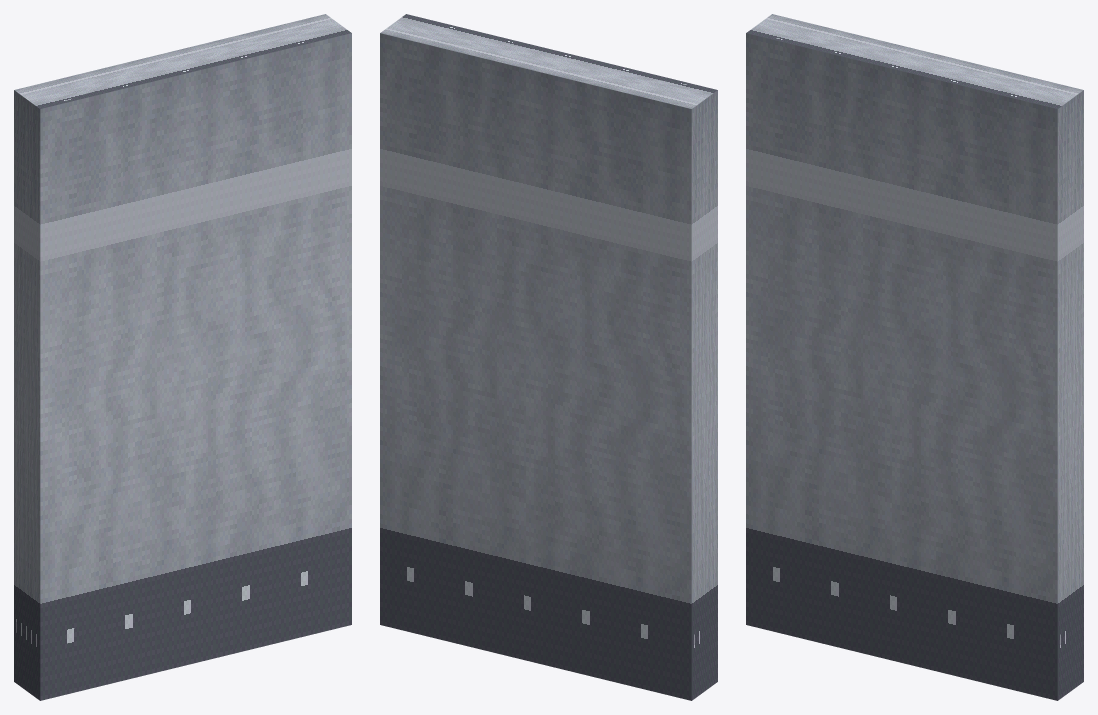
Rendered from porta_de_ferro.glb.
The picture shows the model from 3 angles, left to right: view 1: azimuth 30°, elevation 25°; view 2: azimuth 150°, elevation 25°; view 3: azimuth 330°, elevation 25°; orthographic projection.
Visible parts, largest first — view 1: porta_de_ferro; view 2: porta_de_ferro; view 3: porta_de_ferro.
Part boxes in pixels (left/top/right/bottom): porta_de_ferro: left=14, top=14, right=351, bottom=700; porta_de_ferro: left=380, top=14, right=717, bottom=700; porta_de_ferro: left=746, top=14, right=1083, bottom=700.
Bounding box in the file's own units: 1.24 × 2.25 × 0.18.
1 material, 1 textured.
